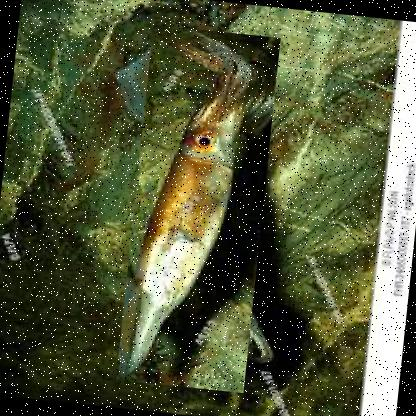colossal_squid: (116, 22, 282, 392)
